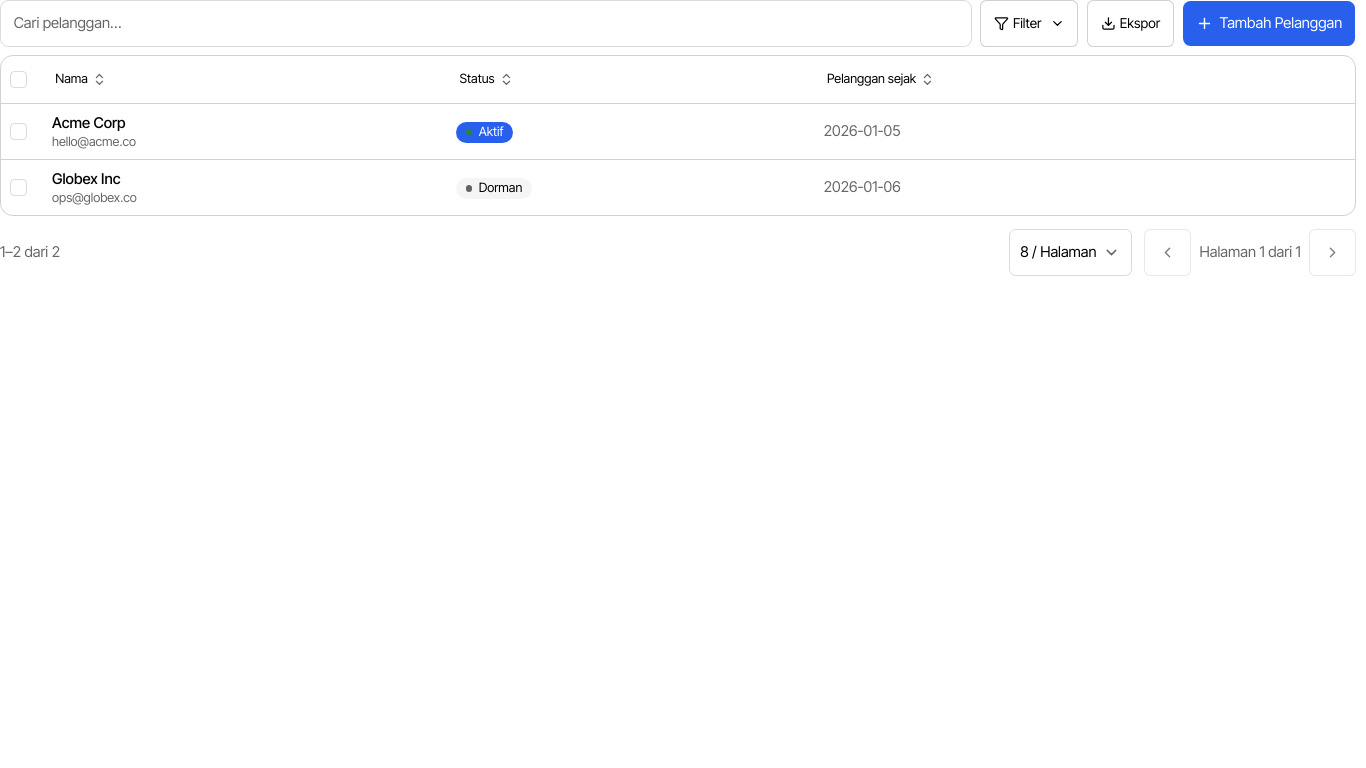
CustomersTable › opens the create dialog from the add button
This screenshot has width=1366, height=768.
Expected: the text "Acme Corp" is shown, [52,114,126,132]
Click the button "Tambah Pelanggan": (1269, 23) [1182,0,1356,47]
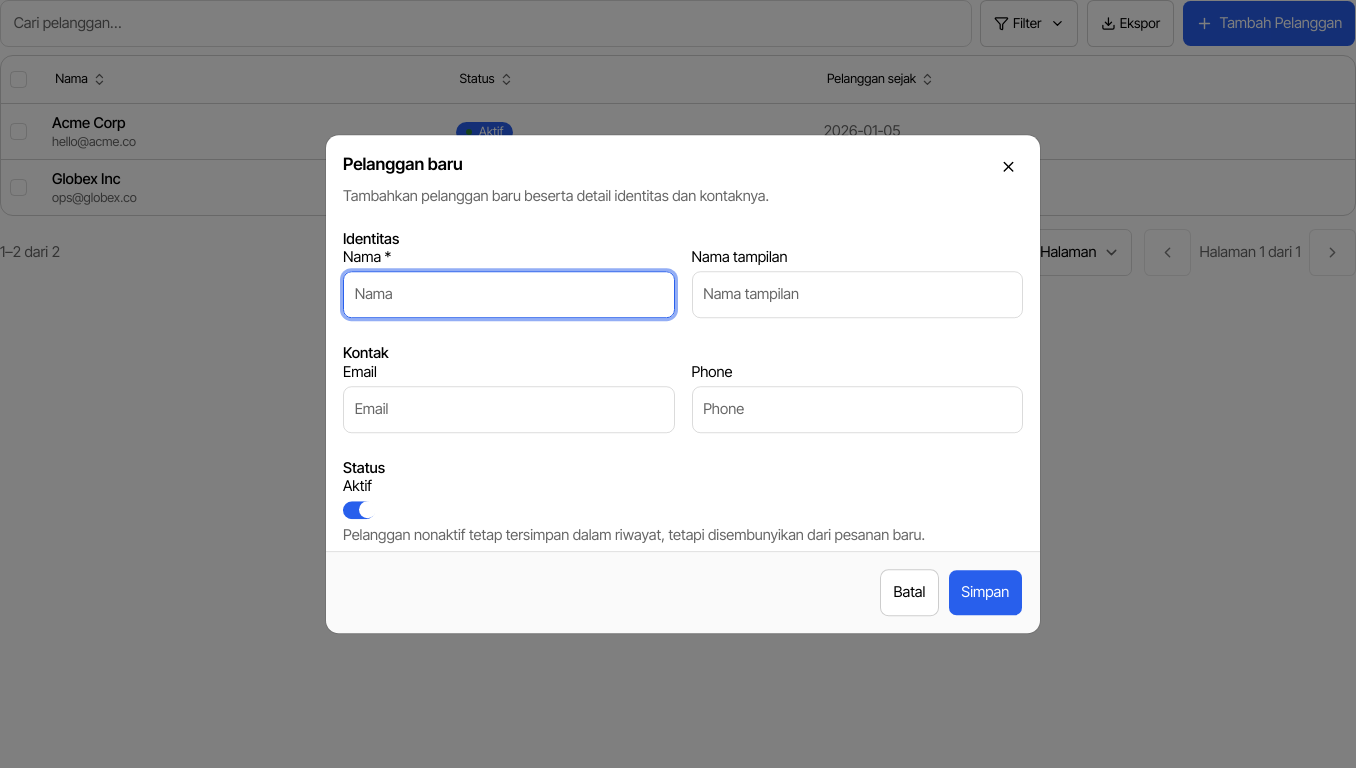
Expected: the heading "Pelanggan baru" is shown, [343,152,463,178]
